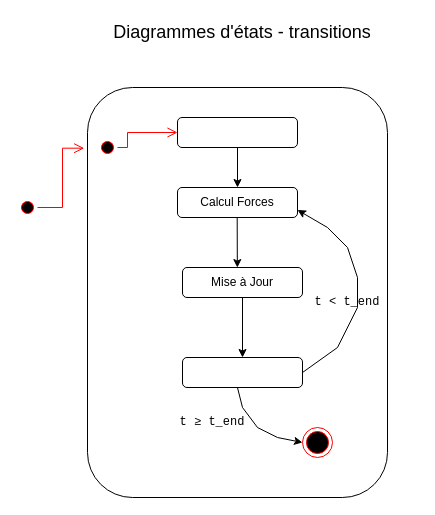
The diagram is 435 pixels wide and 515 high, and some of its shapes have lost their labels. Each missing label, with the box of its shape:
Initialisation: (176, 116, 298, 148)
Sauvegarde: (182, 356, 302, 388)
